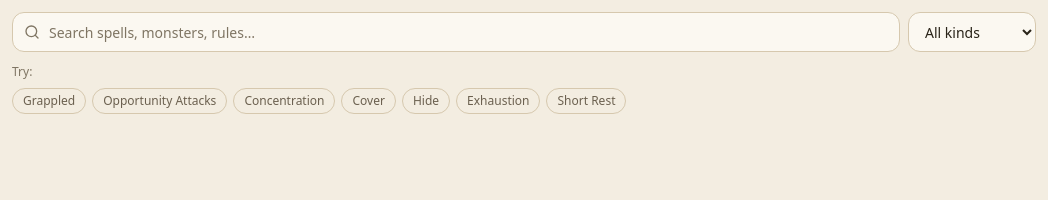
RulesPanel › offers suggestions and says when nothing matches
Click the button "Concentration": coordinates (284, 101) left=233, top=88, right=336, bottom=114
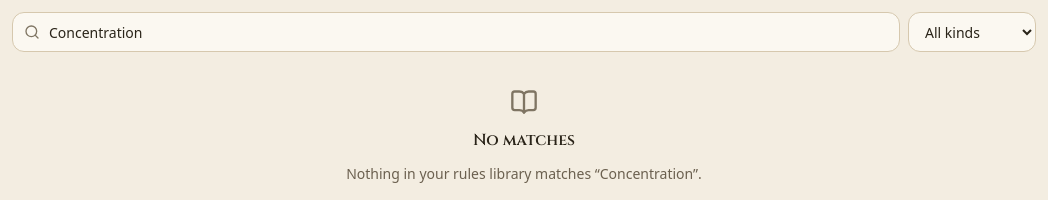
expect the search field named "Search the rules" holds "Concentration": met, box left=12, top=12, right=900, bottom=52
expect the text "No matches" is shown: met, box left=473, top=128, right=575, bottom=152
